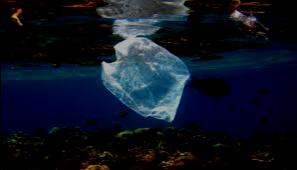Plastic: (99, 34, 190, 128)
